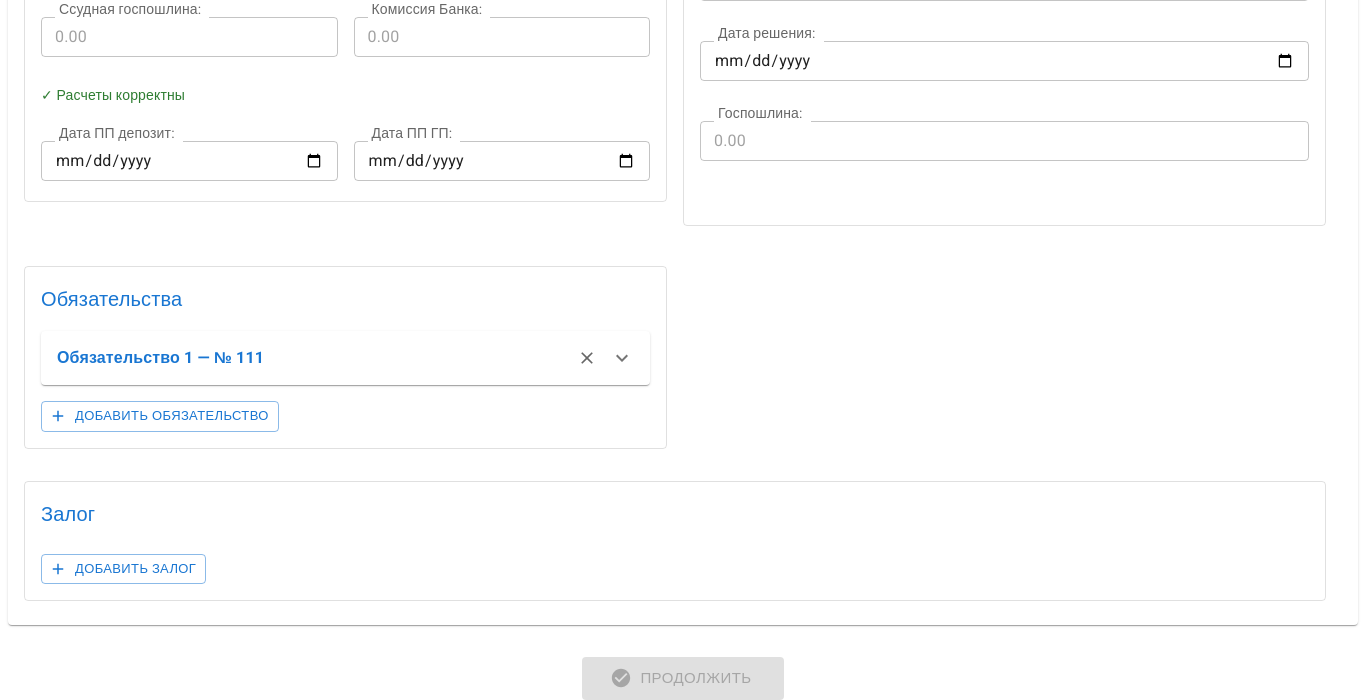
Test: DocumentAnalysis — CRUD обязательств › «Добавить обязательство» добавляет карточку
The image size is (1366, 700).
(page scrolled)
What coordinates should you click on to do the following:
click the button "Добавить обязательство"
I would click on:
 (160, 416)
Its box is [41,401,279,432].
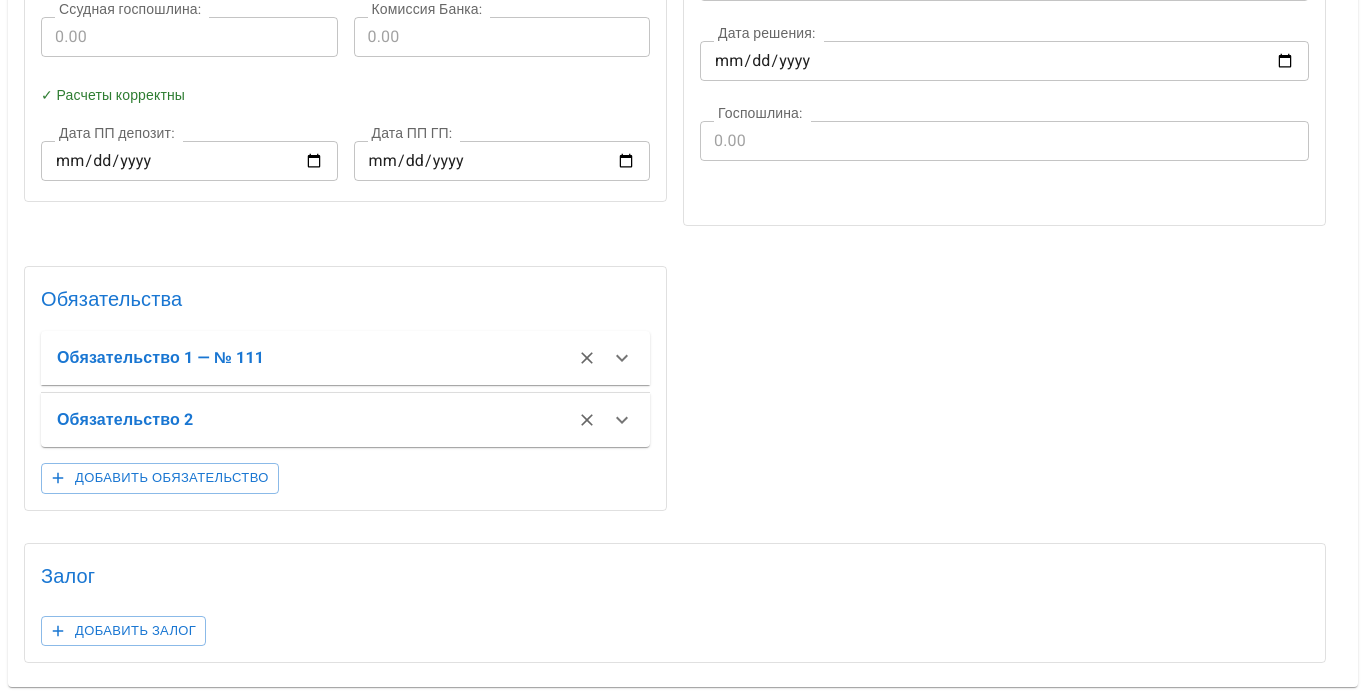
expect the heading "Обязательство 2" is shown: met, box [57,406,193,434]
